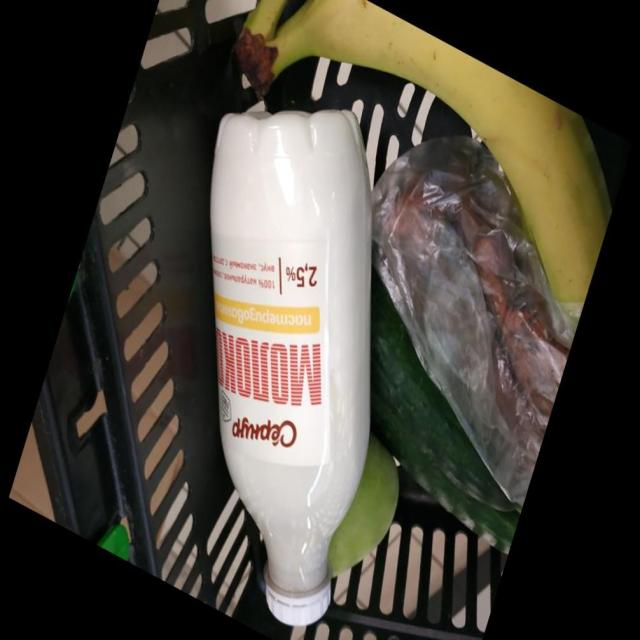Apple: (326, 434, 398, 575)
Banana: (245, 0, 611, 303)
Carrot: (475, 261, 570, 428)
Cucumber: (369, 273, 522, 554)
Milk: (209, 109, 371, 624)
